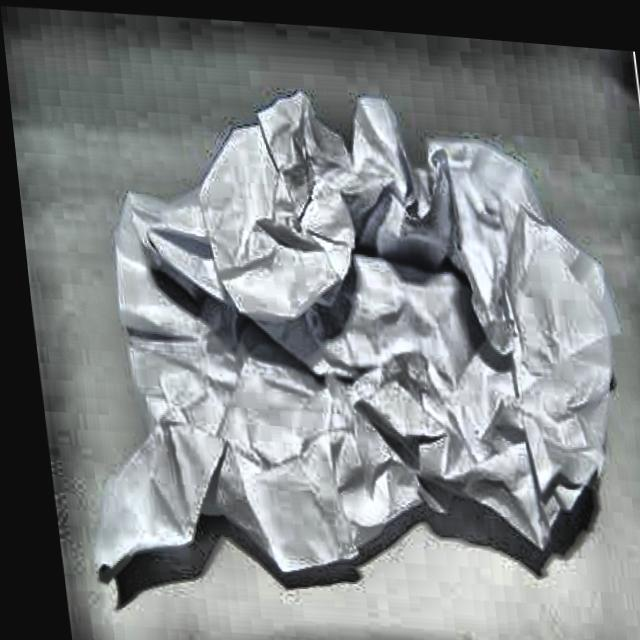Paper: (21, 38, 640, 631)
